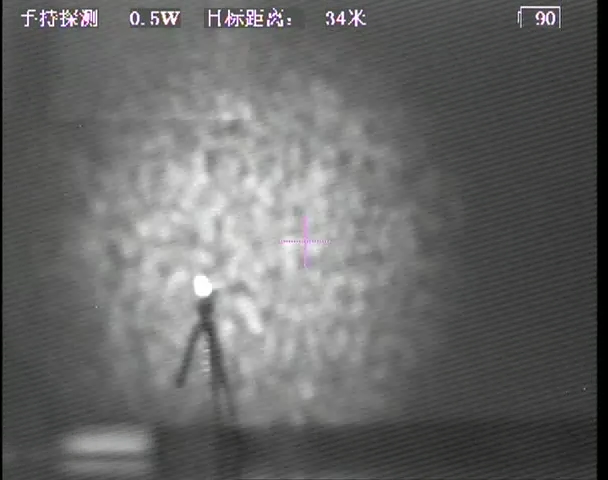my: (192, 276, 214, 298)
